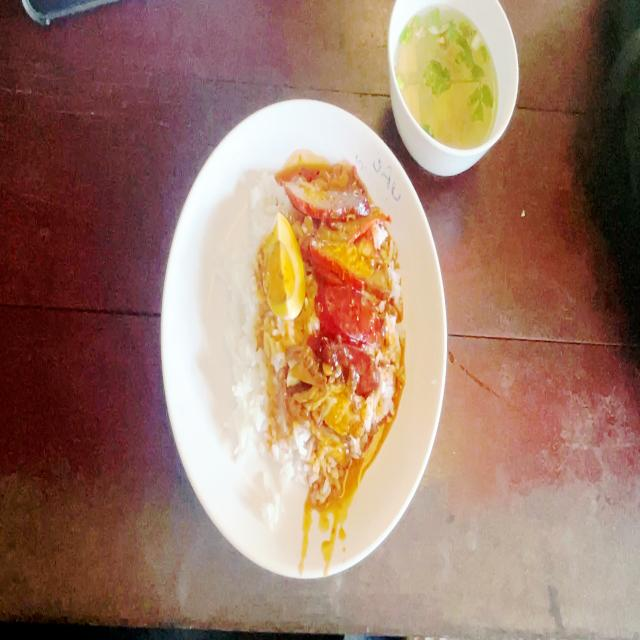boiled_egg: (270, 224, 300, 310)
chainese_sausage: (318, 286, 386, 390)
crispy_pork: (296, 392, 362, 463)
red_pork: (291, 175, 383, 278)
red_pork_and_crispy_pork: (234, 180, 390, 486)
rice: (231, 229, 271, 450), (235, 332, 288, 478), (250, 174, 289, 224)
